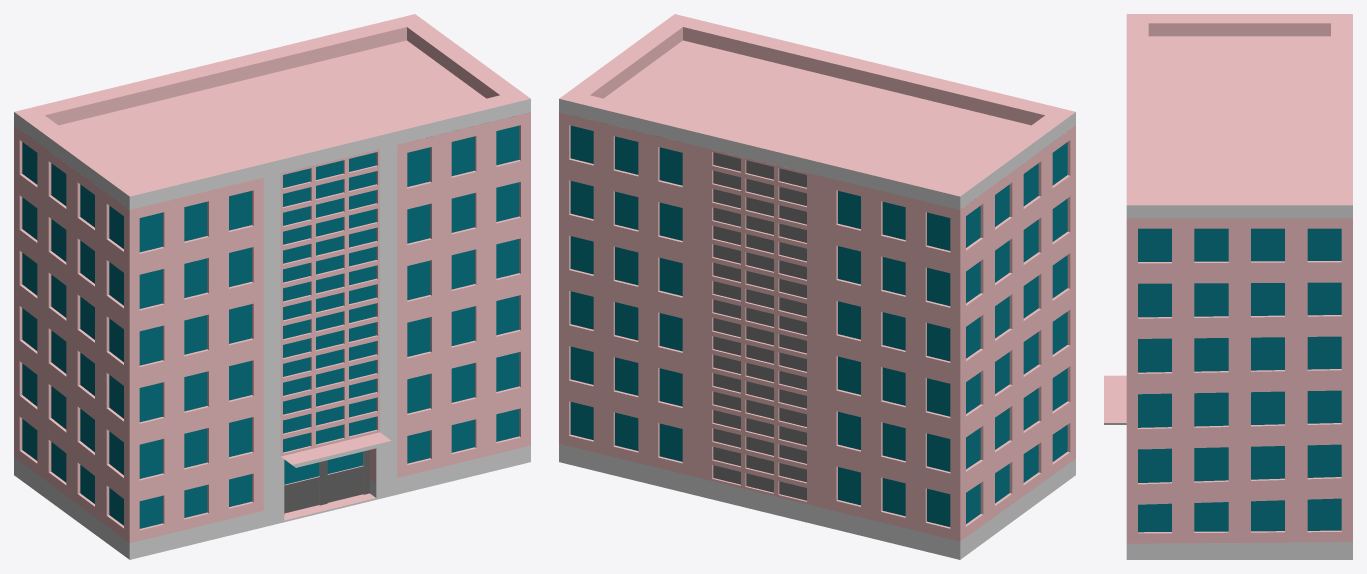
3 views of the same model, side by side, from view 1: azimuth 30°, elevation 25°; view 2: azimuth 150°, elevation 25°; view 3: azimuth 270°, elevation 25° (orthographic). The views are drawn at different scales.
Parts seen in each view (by area): view 1: 7; view 2: 7; view 3: 7.
Part boxes in pixels (x1,y1,x2,y2): 7: (14,14,530,559); 7: (559,14,1075,559); 7: (1104,14,1352,559).
Size of the model in its own units: 3000 by 2596 by 1650.
